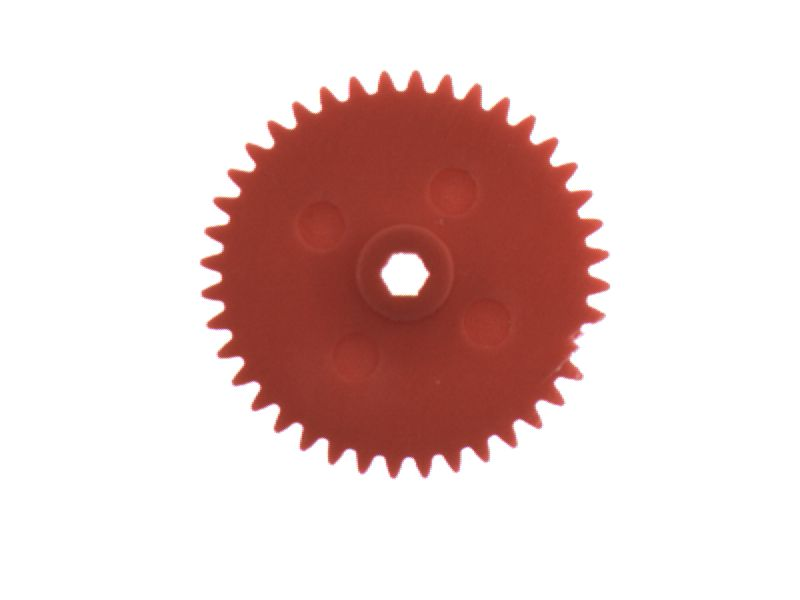defect_lack: (559, 317, 618, 376)
